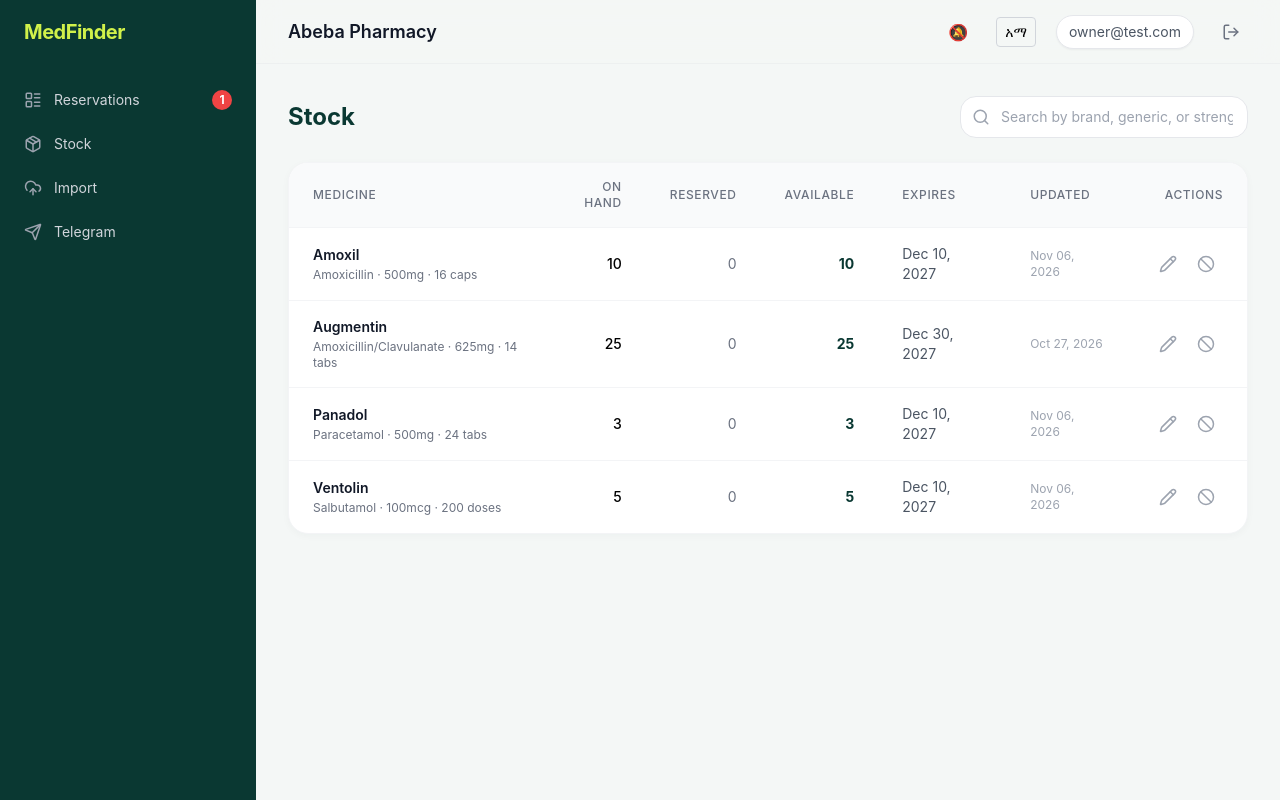
Test: StockPage › shows no-results message when filter matches nothing
This screenshot has width=1280, height=800.
Expected: the text "Amoxil" is shown, [313, 246, 359, 263]
Type "xyzzy" into the search field with placeholder "Search by brand, generic, or strength" at (1104, 117), box [960, 96, 1248, 138]
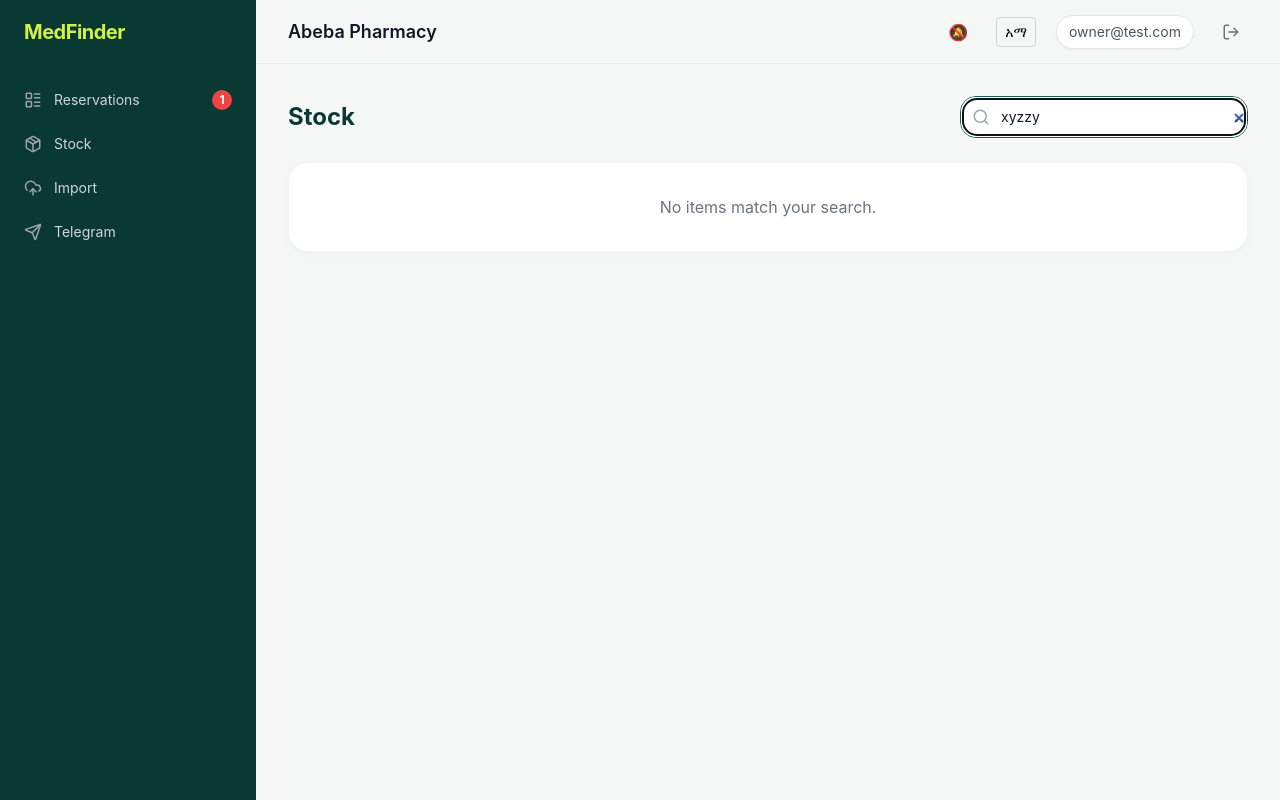
Expected: the text "No items match your search." is shown, [288, 162, 1248, 252]
